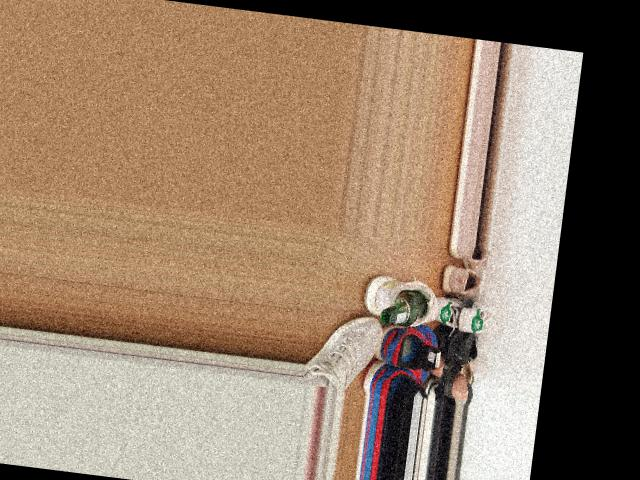beer: (379, 287, 428, 329)
